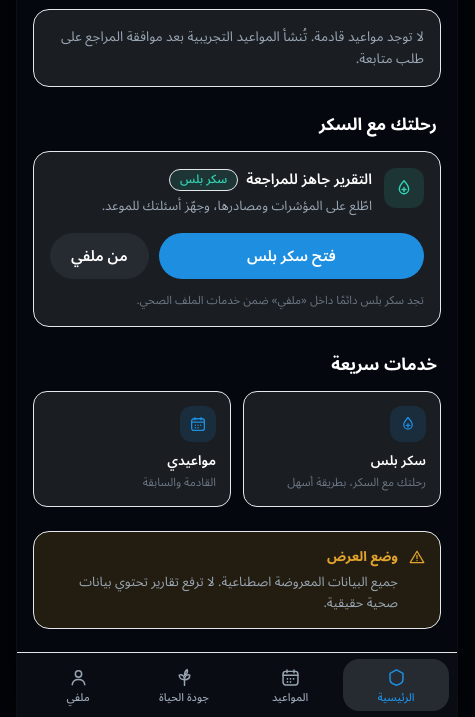
Test: main navigation › moves between destinations without losing the bottom navigation
This screenshot has width=475, height=717.
(page scrolled)
Click the link "جودة الحياة". click: (184, 688)
box: [159,667,209,709]
(page scrolled)
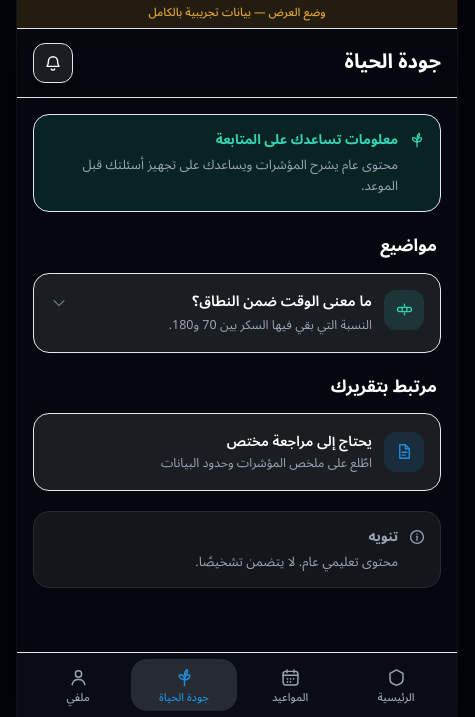
Check: the navigation bar named "التنقل الرئيسي" is shown, box [17,652,457,716]
Check: the heading "جودة الحياة" is shown, box [344,42,441,84]
Click the link "المواعيد". click: (290, 688)
box: [272,667,308,709]
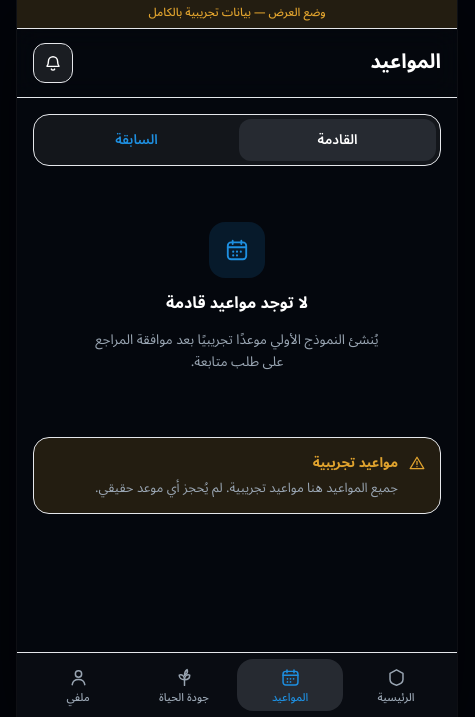
Check: the navigation bar named "التنقل الرئيسي" is shown, box [17,652,457,716]
Check: the heading "المواعيد" is shown, box [370,42,441,84]
